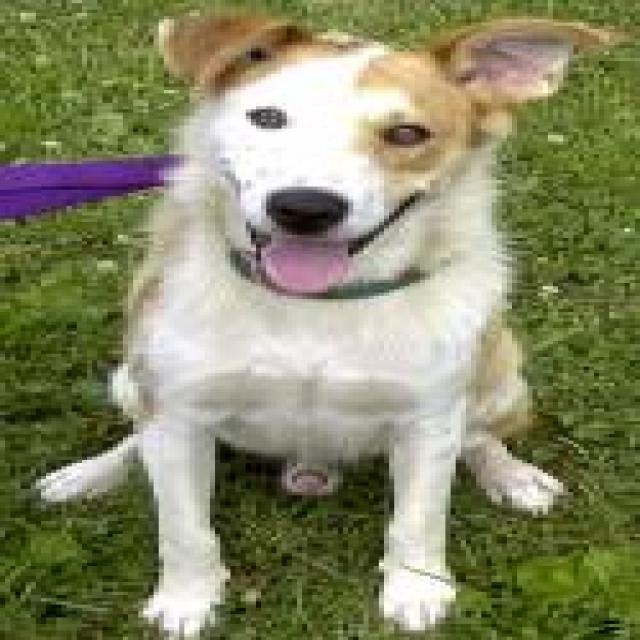dog: (26, 6, 630, 637)
